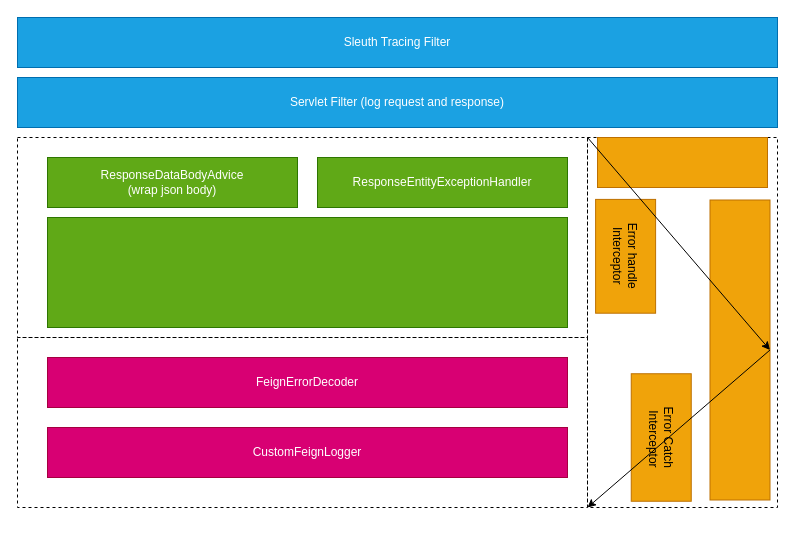
Image size: 796x533. Some labels were removed from this diagram. The box of each missing label's shape, as (x1, y1, x2, y2) in pixels:
Biz: (46, 216, 568, 328)
Proxy Log Interceptor: (709, 199, 770, 500)
Reverse Proxy Filter: (596, 136, 768, 188)
